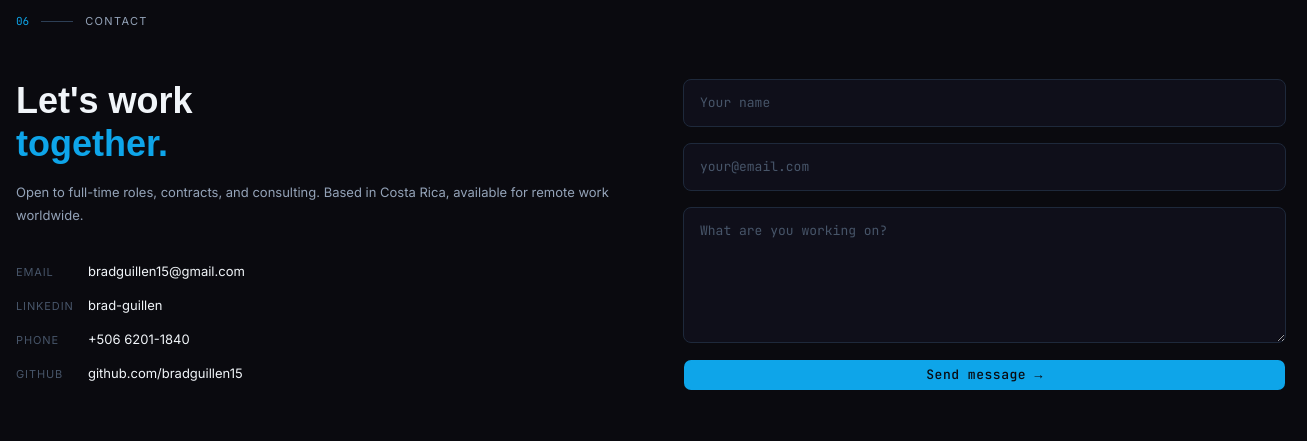
Test: Contact › shows English rate-limit copy on resource-exhausted errors
This screenshot has width=1307, height=441.
Type "Alex" into the field with placeholder "Your name" at (984, 103), box [683,79,1286,127]
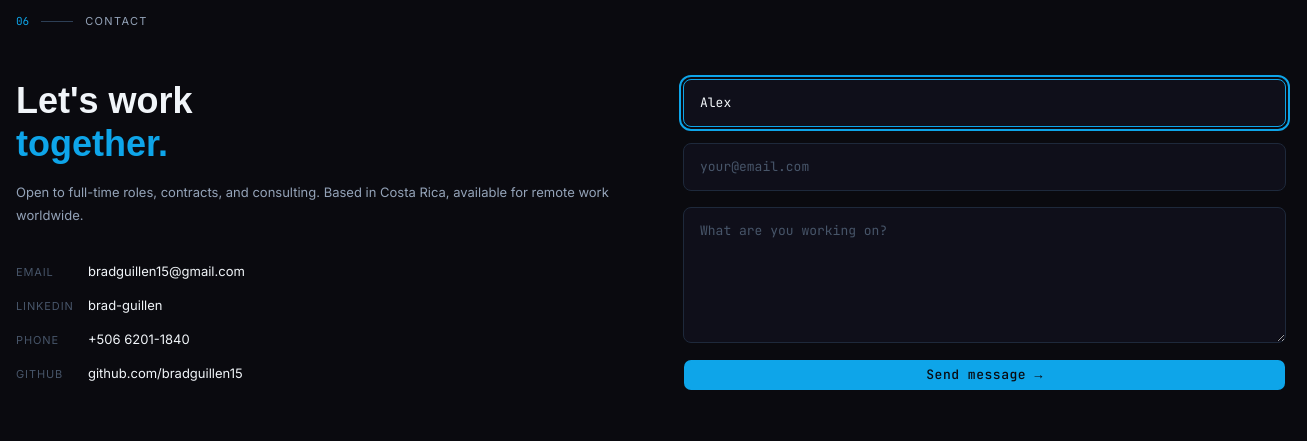
Type "alex@example.com" into the field with placeholder "your@email.com" at (984, 167), box [683,143,1286,191]
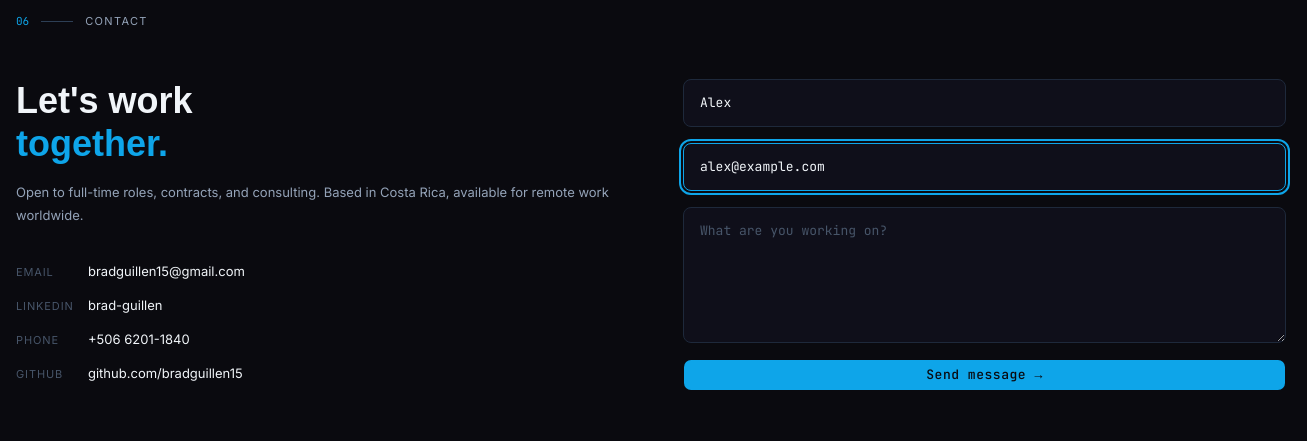
Type "Hello" into the text box with placeholder "What are you working on?" at (984, 275), box [683,207,1286,343]
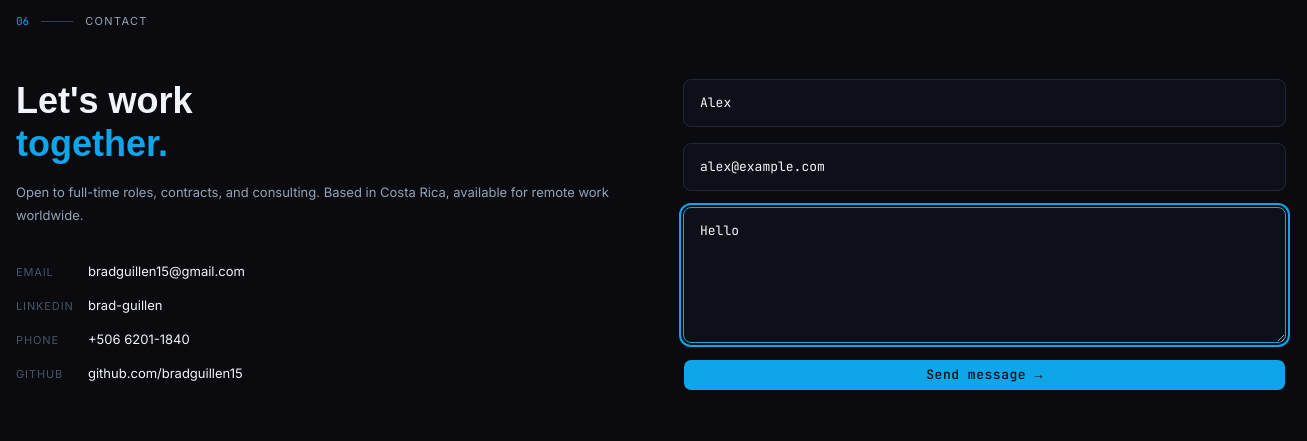
Click the button "Send message →" at (984, 375), box [683,359,1286,391]
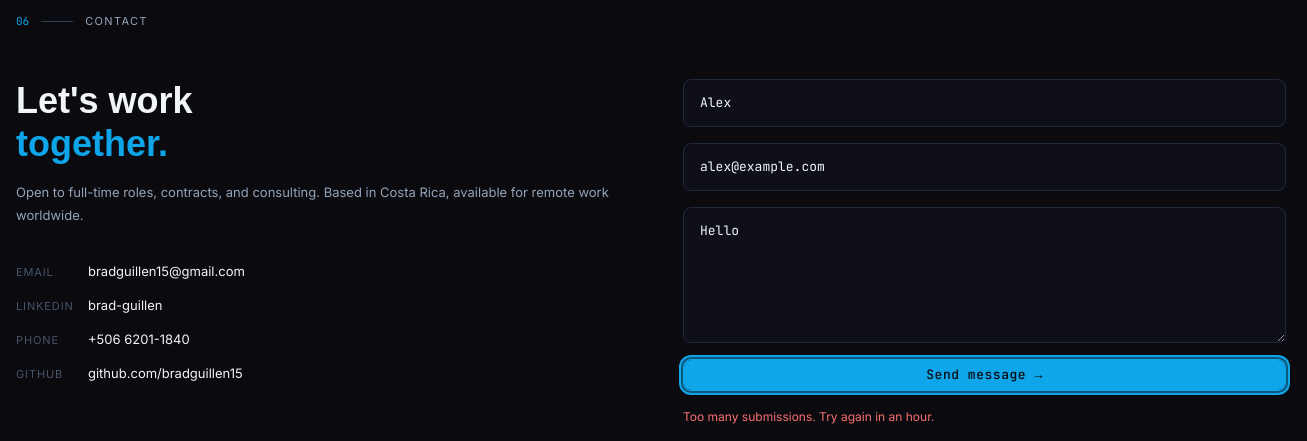
Now the text "Too many submissions. Try again in an hour." is shown, box [683,409,934,424]
